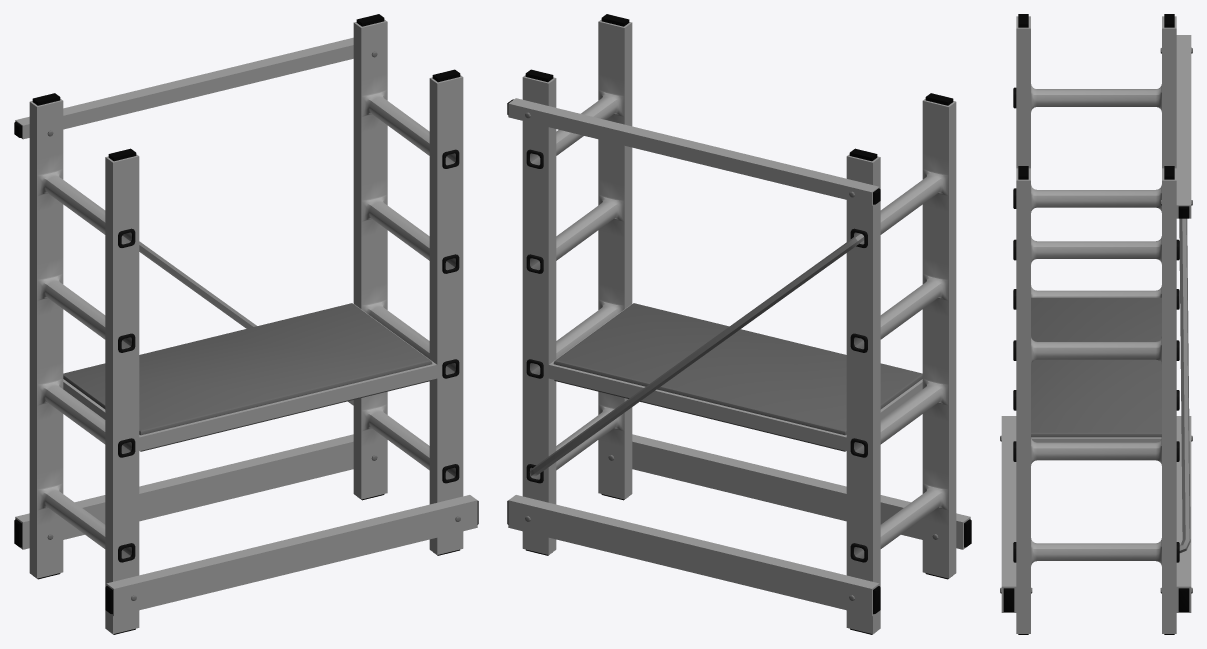
The model's file is Shelf_07b.glb.
3 renders of one model, left to right at view 1: azimuth 30°, elevation 25°; view 2: azimuth 150°, elevation 25°; view 3: azimuth 270°, elevation 25°, orthographic. The views are drawn at different scales.
Visible parts, largest first — view 1: Mesh_Shelf_07b; view 2: Mesh_Shelf_07b; view 3: Mesh_Shelf_07b.
Part boxes in pixels (x1,y1,x2,y2): Mesh_Shelf_07b: (14, 14, 478, 634); Mesh_Shelf_07b: (507, 14, 971, 634); Mesh_Shelf_07b: (1000, 14, 1192, 634).
Bounding box in the file's own units: 2.11 × 2.6 × 0.991.
Materials: 1 (1 with a texture image).
